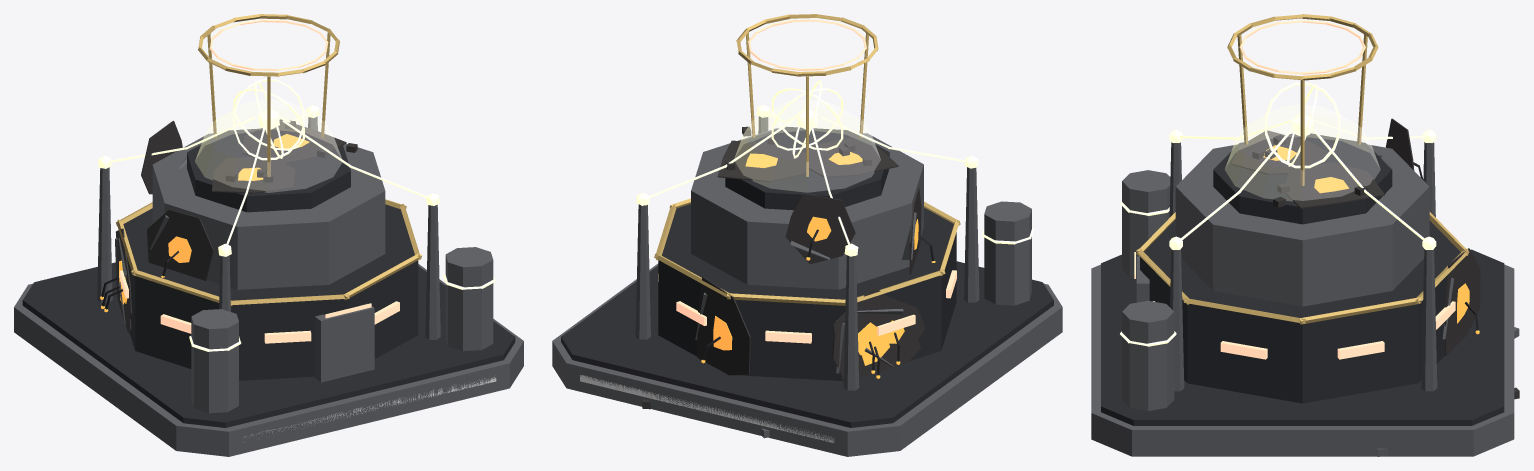
The model's file is Aegis_ResearchLab.fbx.
3 views of the same model, side by side, from view 1: azimuth 30°, elevation 25°; view 2: azimuth 150°, elevation 25°; view 3: azimuth 270°, elevation 25° (orthographic). The views are drawn at different scales.
Visible parts, largest first — view 1: RL_BaseTop, RL_Tier1, RL_Tier2, RL_Base, RL_Dome, RL_Tier3, RL_Tank0, RL_Tank1, RL_Door, Aegis_ResearchLab_DmgScorch3, RL_Tier1Gold, Aegis_ResearchLab_DmgScorch6 (+11 smaller); view 2: RL_BaseTop, RL_Tier1, RL_Tier2, RL_Base, RL_Dome, RL_Tier3, RL_Tank1, Aegis_ResearchLab_DmgScorch0, Aegis_ResearchLab_DmgScorch4, RL_Tier1Gold, Aegis_ResearchLab_DmgScorch7, Aegis_ResearchLab_DmgScorch2 (+14 smaller); view 3: RL_Tier1, RL_Tier2, RL_BaseTop, RL_Base, RL_Dome, RL_Tier3, RL_Tank0, RL_Tank1, RL_Tier1Gold, Aegis_ResearchLab_DmgScorch7, Aegis_ResearchLab_DmgScorch0, Aegis_ResearchLab_DmgScorch6 (+17 smaller).
Boxes of the visible parts, <box> form: RL_BaseTop: <box>22,262,515,427</box>; RL_Tier1: <box>123,204,418,380</box>; RL_Tier2: <box>152,133,385,289</box>; RL_Base: <box>14,264,523,456</box>; RL_Dome: <box>195,100,341,192</box>; RL_Tier3: <box>187,128,350,212</box>; RL_Tank0: <box>445,247,493,351</box>; RL_Tank1: <box>191,309,238,413</box>; RL_Door: <box>315,303,374,382</box>; Aegis_ResearchLab_DmgScorch3: <box>147,209,213,280</box>; RL_Tier1Gold: <box>116,199,421,305</box>; Aegis_ResearchLab_DmgScorch6: <box>212,156,295,193</box>; RL_BaseTop: <box>561,261,1053,427</box>; RL_Tier1: <box>658,204,956,380</box>; RL_Tier2: <box>691,128,923,289</box>; RL_Base: <box>552,263,1062,456</box>; RL_Dome: <box>734,99,880,192</box>; RL_Tier3: <box>725,127,889,210</box>; RL_Tank1: <box>984,201,1031,305</box>; Aegis_ResearchLab_DmgScorch0: <box>697,276,750,375</box>; Aegis_ResearchLab_DmgScorch4: <box>785,193,855,264</box>; RL_Tier1Gold: <box>654,198,960,305</box>; Aegis_ResearchLab_DmgScorch7: <box>717,140,810,182</box>; Aegis_ResearchLab_DmgScorch2: <box>832,302,920,382</box>; RL_Tier1: <box>1140,220,1460,403</box>; RL_Tier2: <box>1175,144,1429,306</box>; RL_BaseTop: <box>1101,249,1504,425</box>; RL_Base: <box>1091,264,1514,456</box>; RL_Dome: <box>1225,104,1380,201</box>; RL_Tier3: <box>1213,133,1392,224</box>; RL_Tank0: <box>1122,300,1174,410</box>; RL_Tank1: <box>1122,170,1170,278</box>; RL_Tier1Gold: <box>1136,212,1469,324</box>; Aegis_ResearchLab_DmgScorch7: <box>1285,162,1384,208</box>; Aegis_ResearchLab_DmgScorch0: <box>1444,248,1480,355</box>; Aegis_ResearchLab_DmgScorch6: <box>1231,130,1328,174</box>.
Size of the model in its own units: 2.62 by 2.18 by 2.63.
